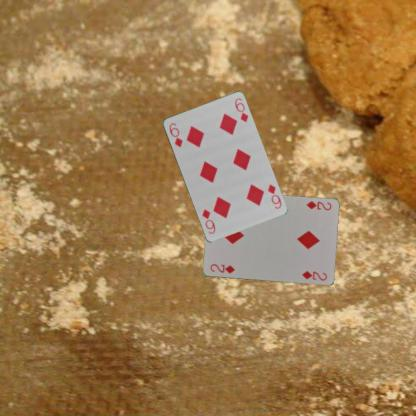2d: (207, 261, 236, 275), (304, 199, 332, 211)
6d: (264, 181, 283, 210), (166, 120, 184, 149)
